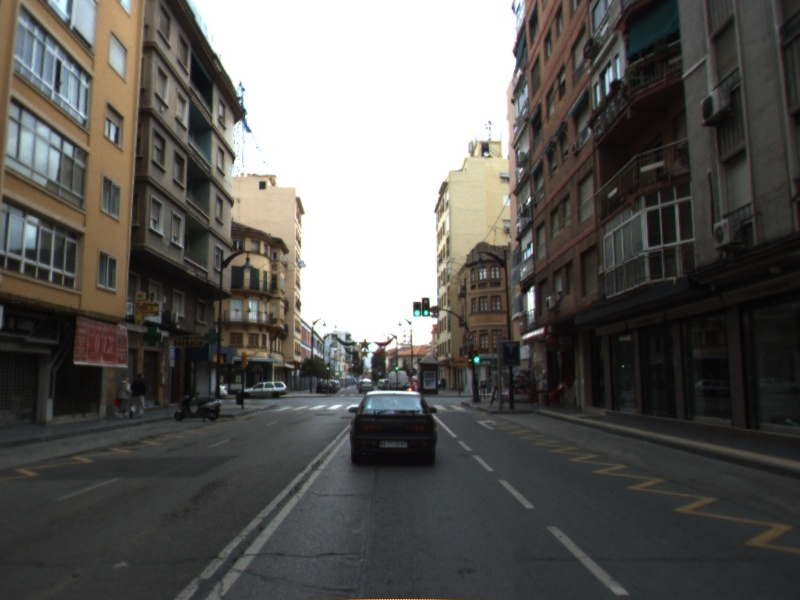RIGHT: (474, 417, 498, 431)
